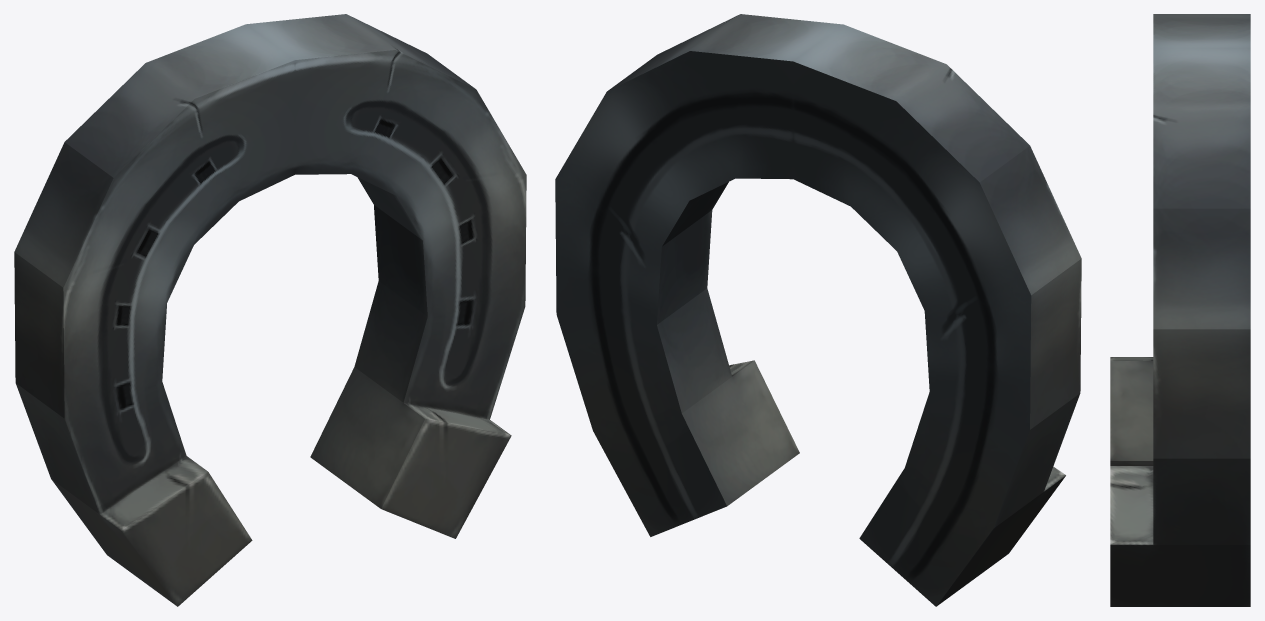
Rendered from 32_horseshoe.FBX.
3 views of the same model, side by side, from view 1: azimuth 30°, elevation 25°; view 2: azimuth 150°, elevation 25°; view 3: azimuth 270°, elevation 25° (orthographic). The views are drawn at different scales.
Visible parts, largest first — view 1: 32_horseshoe; view 2: 32_horseshoe; view 3: 32_horseshoe.
Part boxes in pixels (box(x1,y1,x2,y2)): 32_horseshoe: box(14, 14, 526, 606); 32_horseshoe: box(555, 14, 1081, 606); 32_horseshoe: box(1110, 14, 1250, 606).
Bounding box in the file's own units: 46.51 × 47.69 × 12.32.
